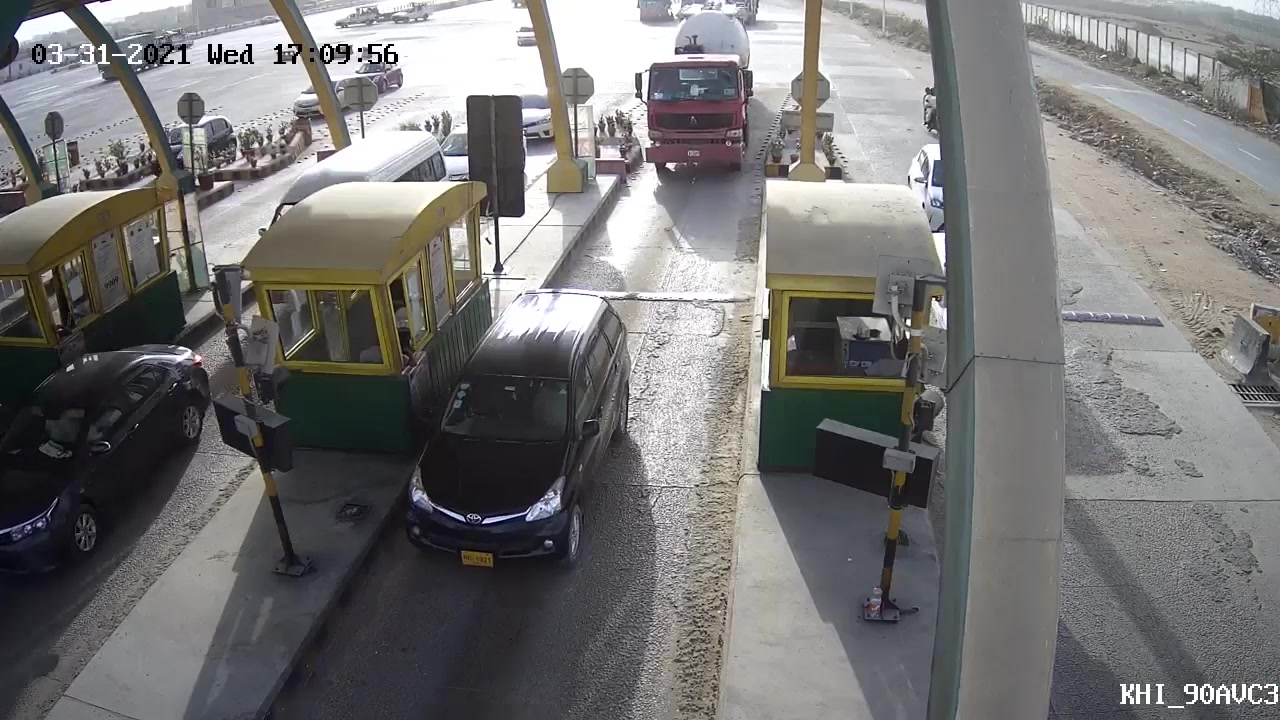F1: (390, 286, 643, 577)
